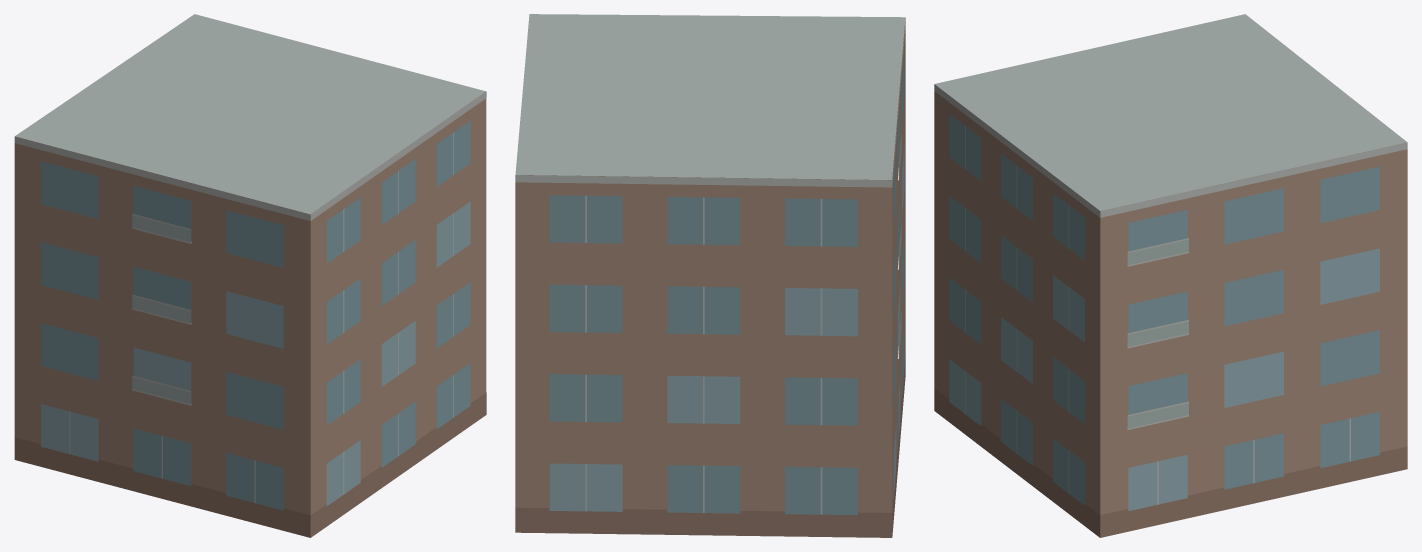
File: survey-upis-32666034.glb
3 renders of one model, left to right at view 1: azimuth 30°, elevation 25°; view 2: azimuth 150°, elevation 25°; view 3: azimuth 270°, elevation 25°, orthographic. The views are drawn at different scales.
Parts seen in each view (by area): view 1: survey-upis-32666034.tmp; view 2: survey-upis-32666034.tmp; view 3: survey-upis-32666034.tmp.
Boxes of the visible parts, bbox=[...] form: survey-upis-32666034.tmp: bbox=[14, 14, 486, 537]; survey-upis-32666034.tmp: bbox=[515, 14, 905, 537]; survey-upis-32666034.tmp: bbox=[934, 14, 1407, 537].
Bounding box in the file's own units: 15.15 × 11.7 × 15.37.
